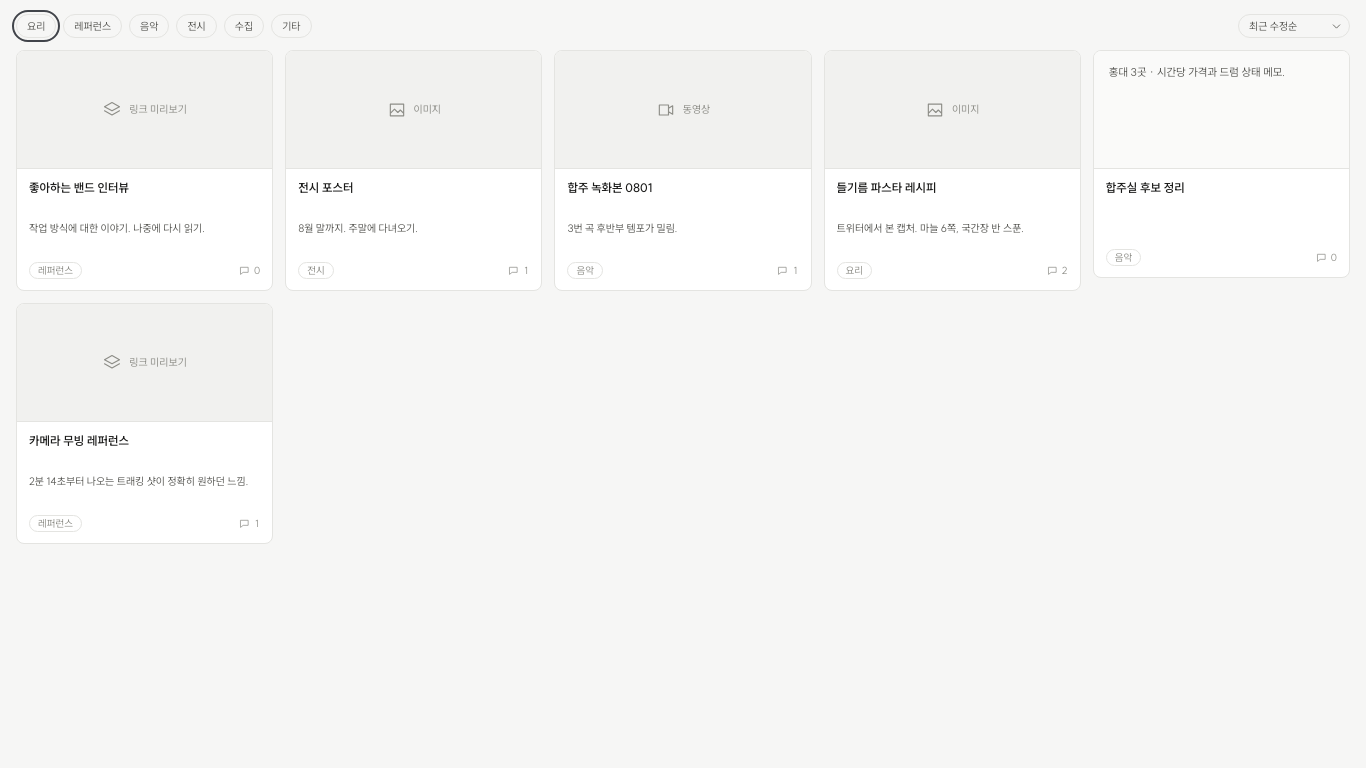
Test: ScrapPage › shows the normal list and label filters and moves between labels using the keyboard
This screenshot has width=1366, height=768.
Check: the button "이미지 들기름 파스타 레시피 트위터에서 본 캡처. 마늘 6쪽, 국간장 반 스푼. 요리 2" is shown, box [824, 50, 1081, 291]
Press ArrowRight in the button "요리", box [16, 14, 56, 38]
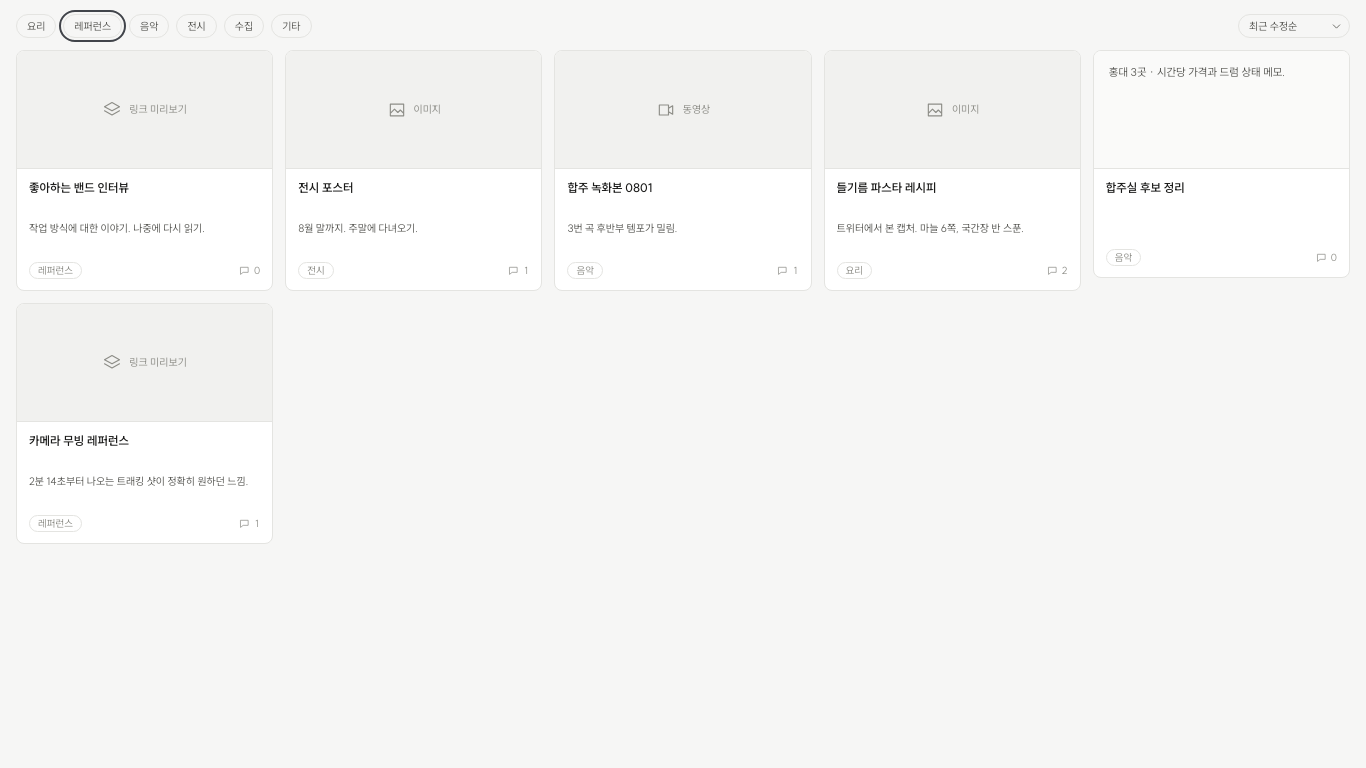
Click the button "음악".
click(149, 26)  # box [129, 14, 170, 38]
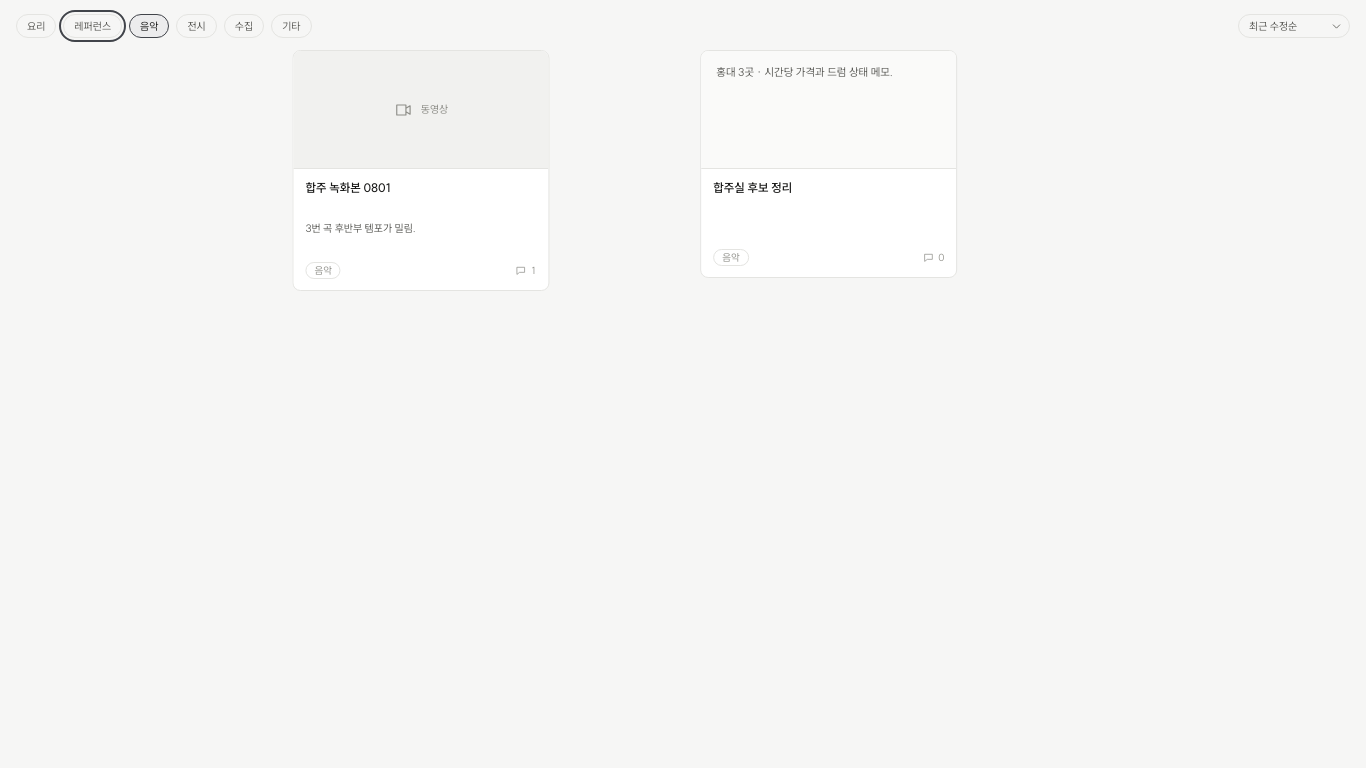
Check: the button "홍대 3곳 · 시간당 가격과 드럼 상태 메모. 합주실 후보 정리 음악 0" is shown, box [700, 50, 958, 278]
Check: the button "들기름 파스타 레시피" is gone
